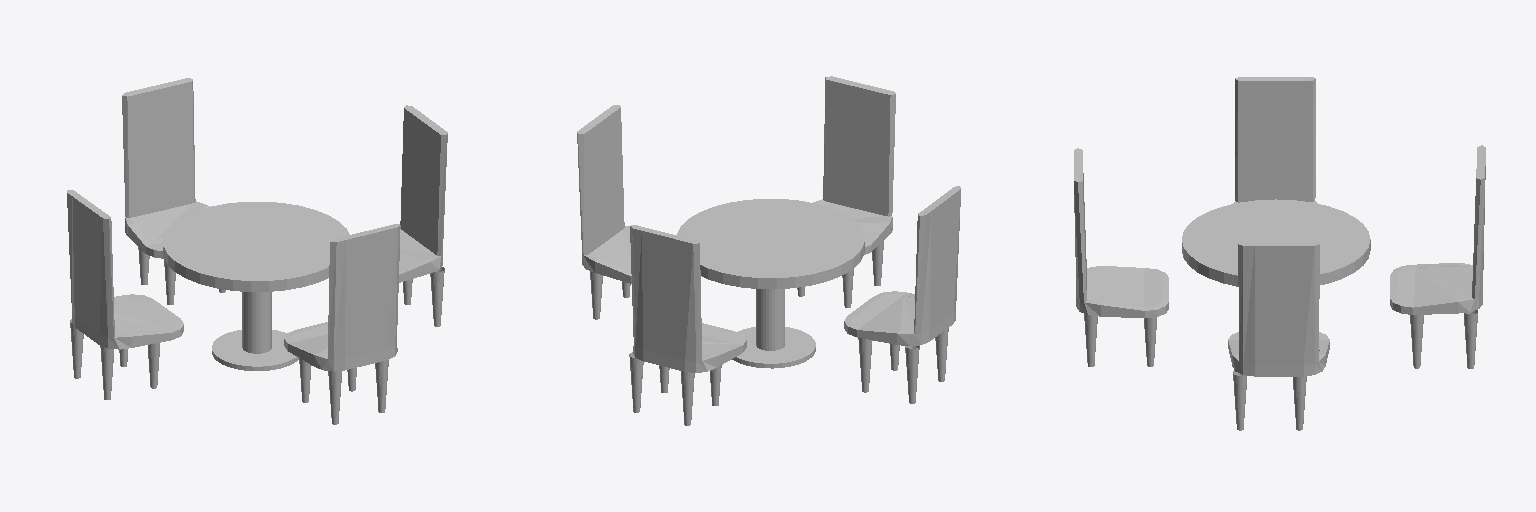
The model's file is table_2.obj.
3 renders of one model, left to right at view 1: azimuth 30°, elevation 25°; view 2: azimuth 150°, elevation 25°; view 3: azimuth 270°, elevation 25°, orthographic.
Parts seen in each view (by area): view 1: table.001, Cube.004, Cube.006, Cube.007, Cube.005, Cylinder.021, Cylinder.019, Cylinder.030, Cylinder.017; view 2: table.001, Cube.006, Cube.004, Cube.007, Cube.005, Cylinder.029, Cylinder.025, Cylinder.026, Cylinder.031; view 3: Cube.005, table.001, Cube.007, Cube.004, Cube.006, Cylinder.025, Cylinder.021, Cylinder.022, Cylinder.027, Cylinder.017.
Boxes of the visible parts, x1,y1,x2,y2 form: table.001: [163, 202, 349, 370]; Cube.004: [284, 224, 400, 371]; Cube.006: [122, 78, 209, 258]; Cube.007: [67, 190, 183, 349]; Cube.005: [399, 105, 447, 282]; Cylinder.021: [430, 267, 444, 326]; Cylinder.019: [328, 371, 341, 424]; Cylinder.030: [100, 346, 113, 399]; Cylinder.017: [375, 360, 388, 412]; table.001: [677, 199, 864, 368]; Cube.006: [630, 225, 746, 372]; Cube.004: [813, 76, 895, 254]; Cube.007: [844, 186, 960, 346]; Cube.005: [577, 105, 631, 283]; Cylinder.029: [905, 346, 919, 403]; Cylinder.025: [629, 352, 643, 412]; Cylinder.026: [681, 371, 694, 425]; Cylinder.031: [858, 338, 872, 392]; Cube.005: [1228, 243, 1329, 376]; table.001: [1182, 199, 1370, 286]; Cube.007: [1233, 77, 1317, 203]; Cube.004: [1074, 148, 1168, 318]; Cube.006: [1390, 145, 1485, 314]; Cylinder.025: [1464, 310, 1477, 368]; Cylinder.021: [1233, 371, 1246, 430]; Cylinder.022: [1293, 376, 1306, 430]; Cylinder.027: [1410, 315, 1423, 368]; Cylinder.017: [1084, 314, 1097, 366].
Bounding box in the file's own units: 30.41 × 15.83 × 31.26.